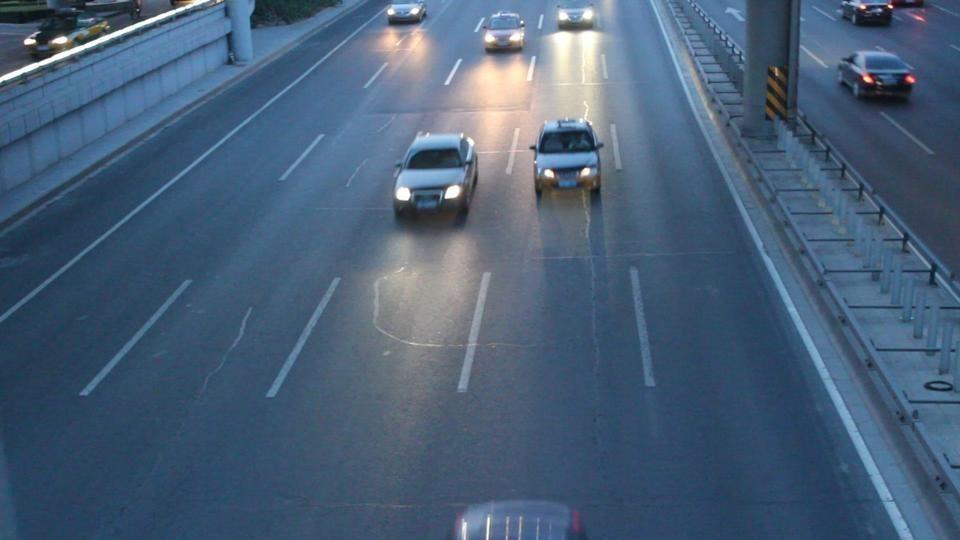car: (392, 131, 480, 222), (531, 118, 604, 195), (835, 48, 917, 102), (23, 15, 111, 60), (476, 11, 528, 52), (838, 0, 895, 26), (556, 2, 600, 30), (387, 1, 428, 25)
